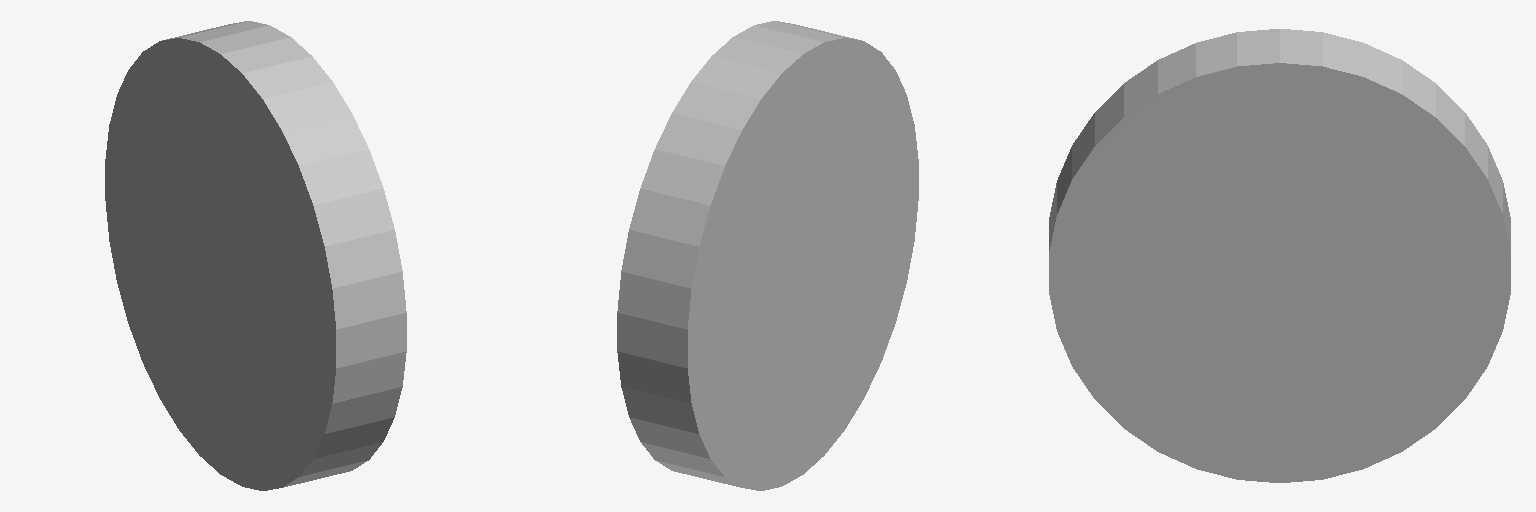
Rendered from rueda.obj.
3 renders of one model, left to right at view 1: azimuth 30°, elevation 25°; view 2: azimuth 150°, elevation 25°; view 3: azimuth 270°, elevation 25°, orthographic.
Bounding box in the file's own units: 0.7 × 4 × 3.98.